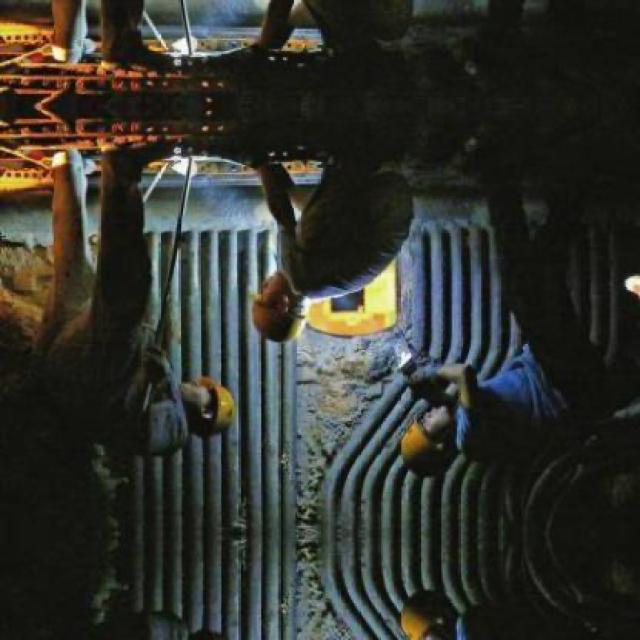con casco: (362, 374, 470, 491), (147, 380, 249, 460), (235, 261, 324, 350)
